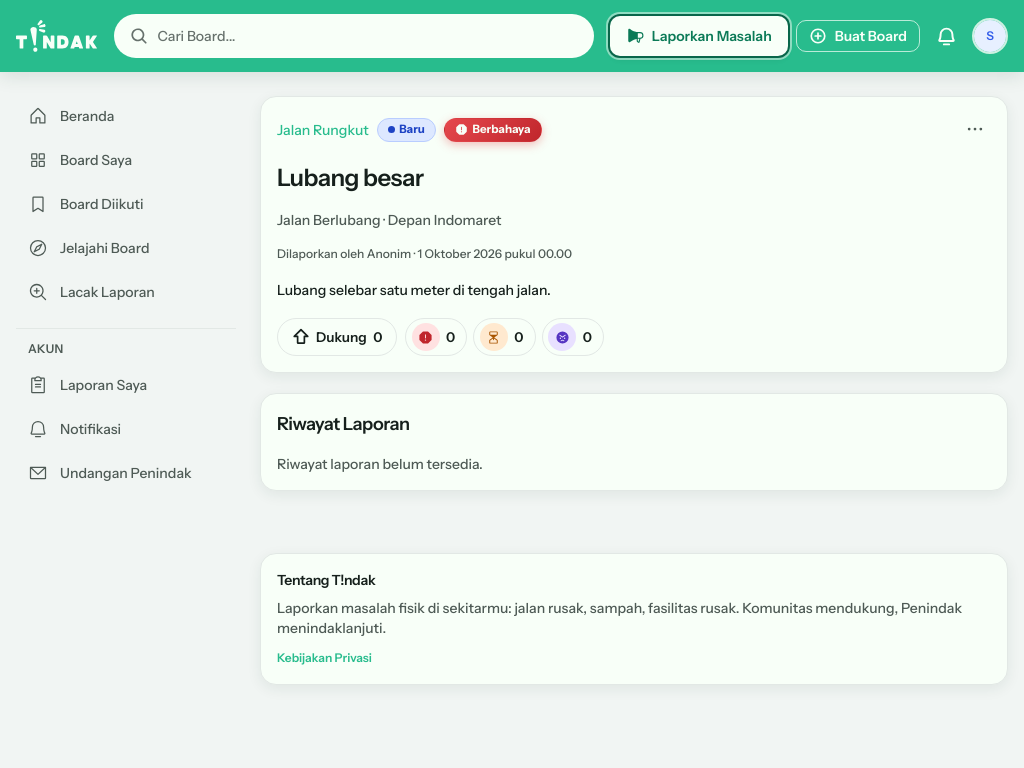
Test: Tandai Pelanggaran › user memilih alasan lalu mengirim tanda
Step 1. Click the button named "Opsi laporan" → x=975, y=129, box [959, 113, 991, 145]
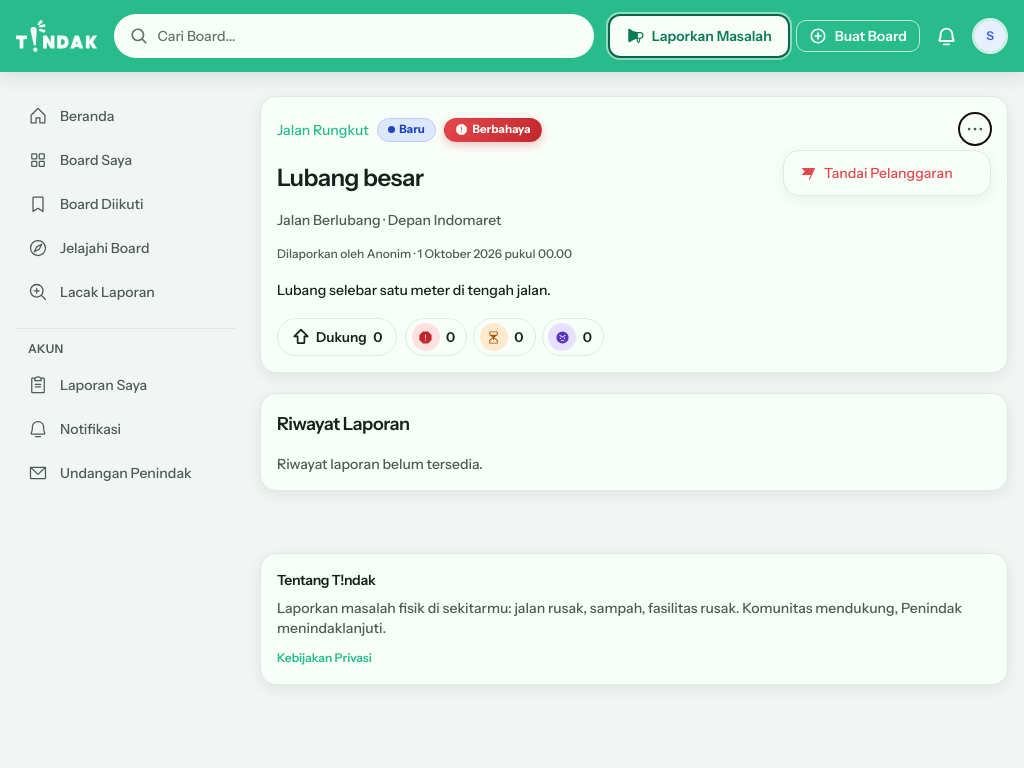
Step 2. Click the menu item "Tandai Pelanggaran" → x=887, y=173, box [788, 155, 986, 191]
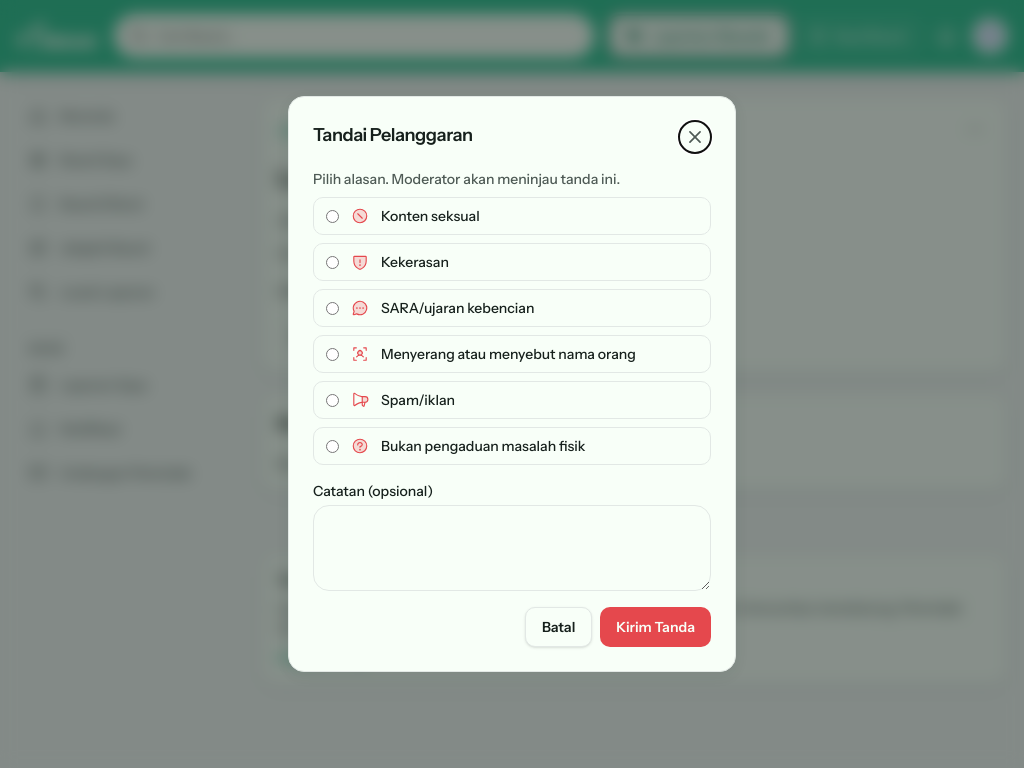
Step 3. Click the button "Kirim Tanda" → x=656, y=627, box [600, 607, 711, 647]
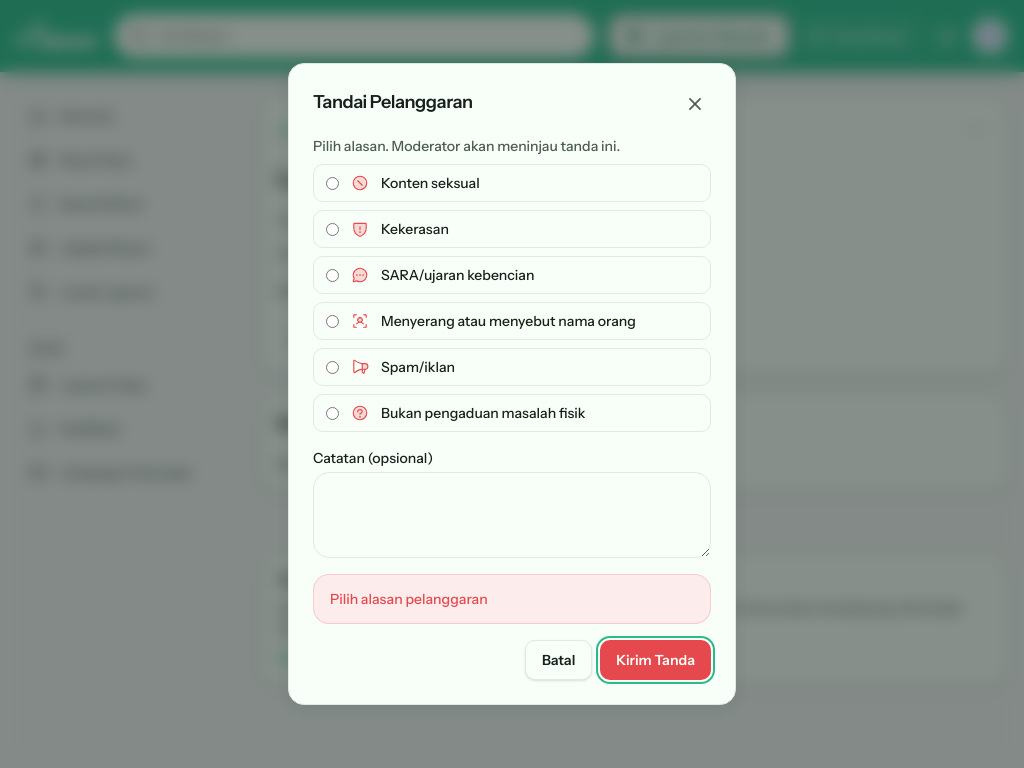
Expected: the message reads "Pilih alasan pelanggaran", [330, 590, 488, 608]
Step 4. Click the radio button labelled "Spam/iklan" → x=332, y=367, box [326, 360, 339, 374]
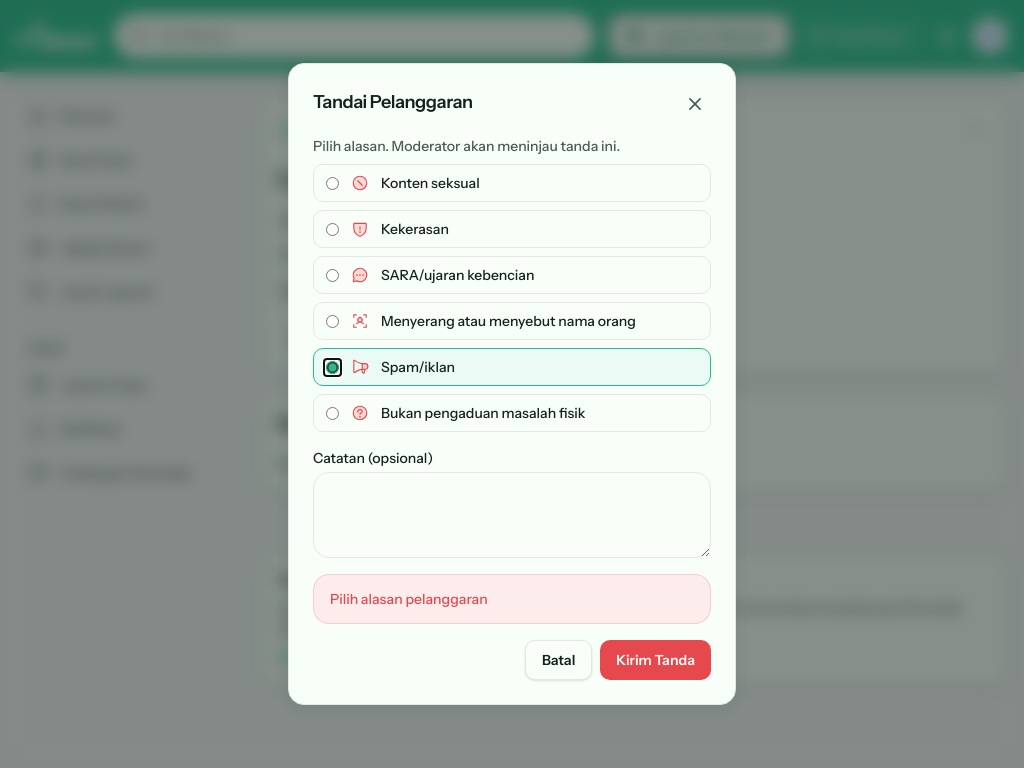
Step 5. Click the button "Kirim Tanda" → x=656, y=660, box [600, 640, 711, 680]
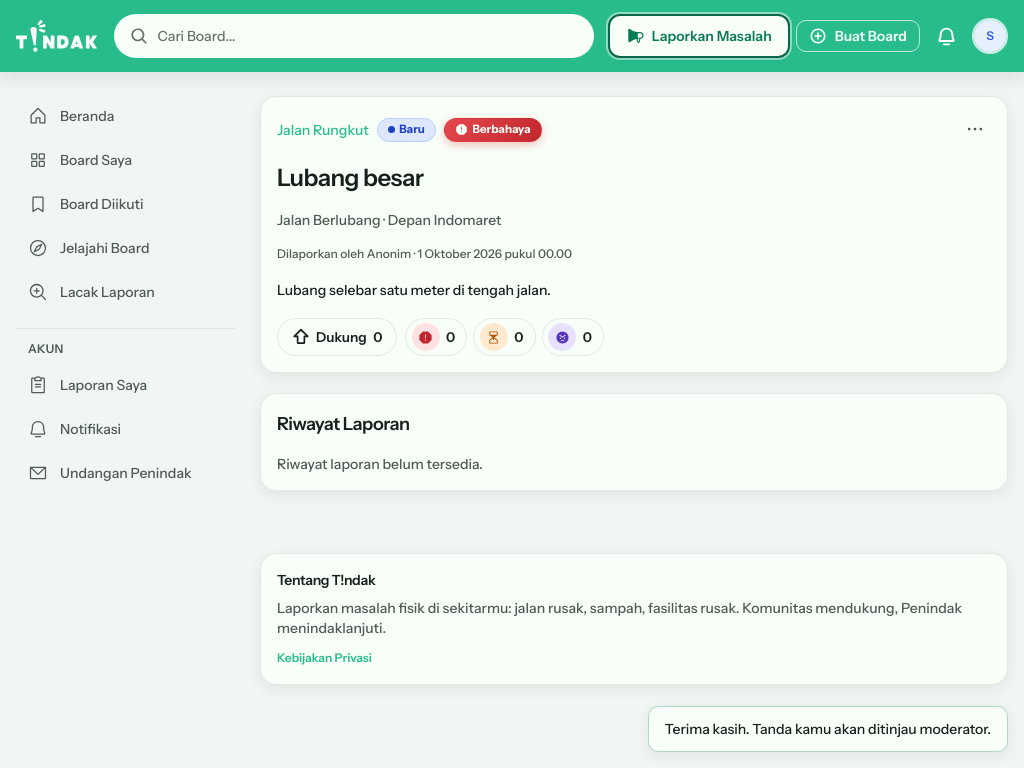
Expected: the text "Terima kasih. Tanda kamu akan ditinjau moderator." is shown, [648, 706, 1008, 752]
